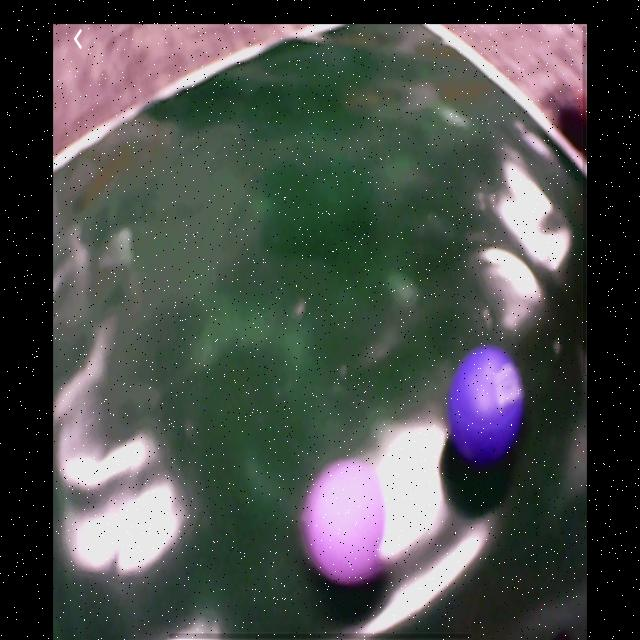ball: (303, 459, 389, 585), (448, 347, 524, 460)
